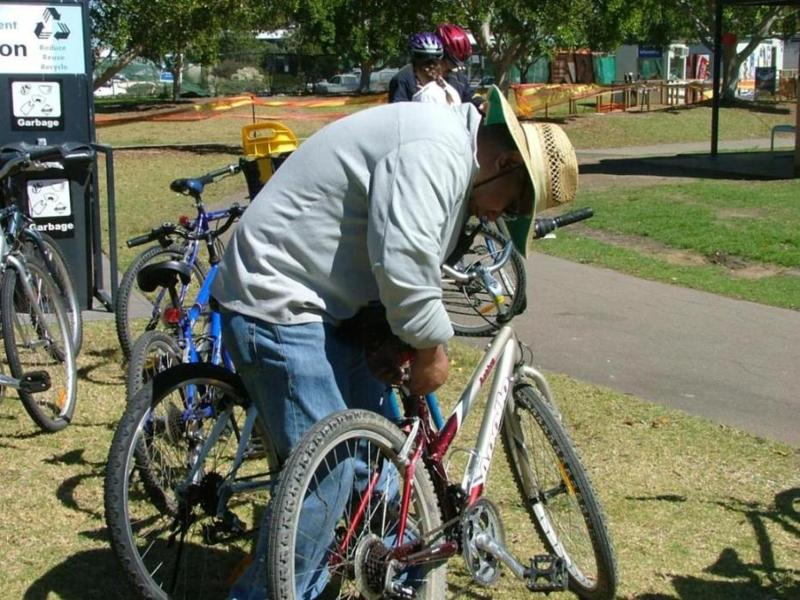person: (213, 103, 578, 599)
